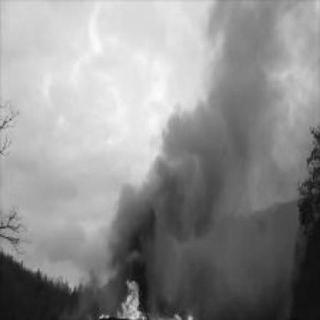Fire: (111, 276, 156, 316), (173, 302, 204, 318)
